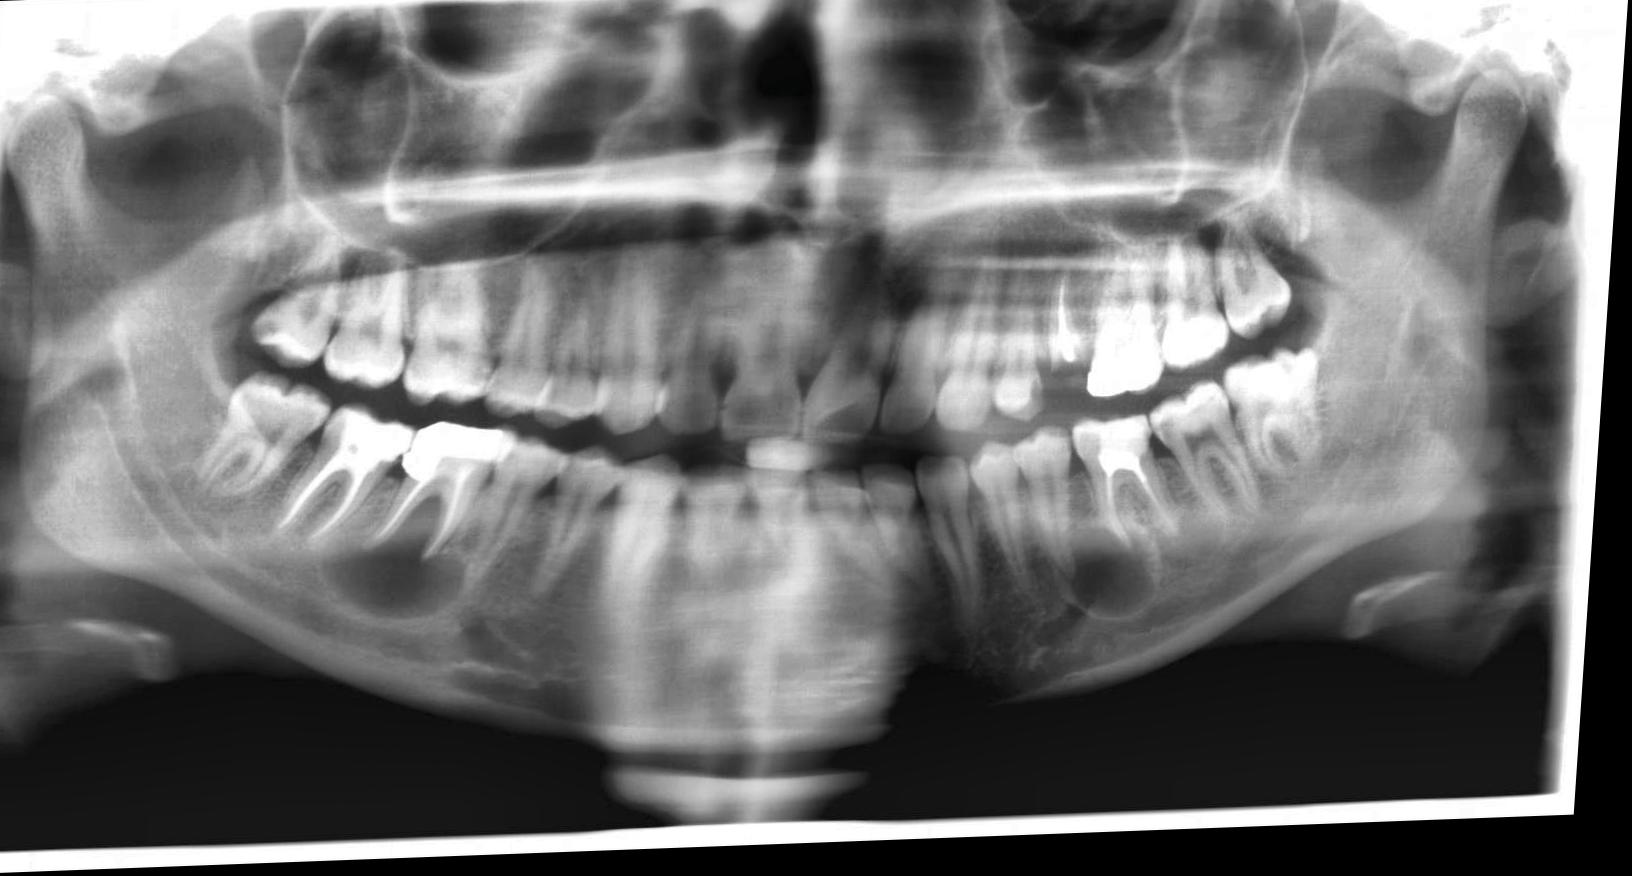radikuler: (323, 494, 479, 629), (1076, 533, 1171, 631), (1165, 508, 1236, 579)
